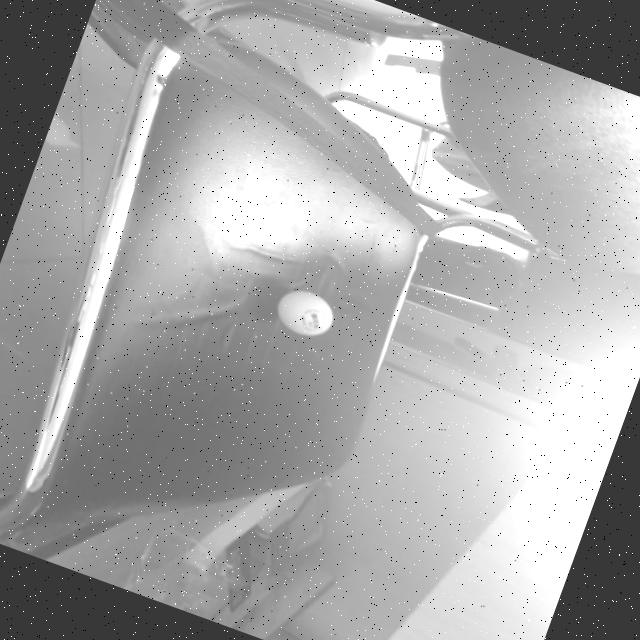ping-pong-ball: (270, 282, 341, 344)
